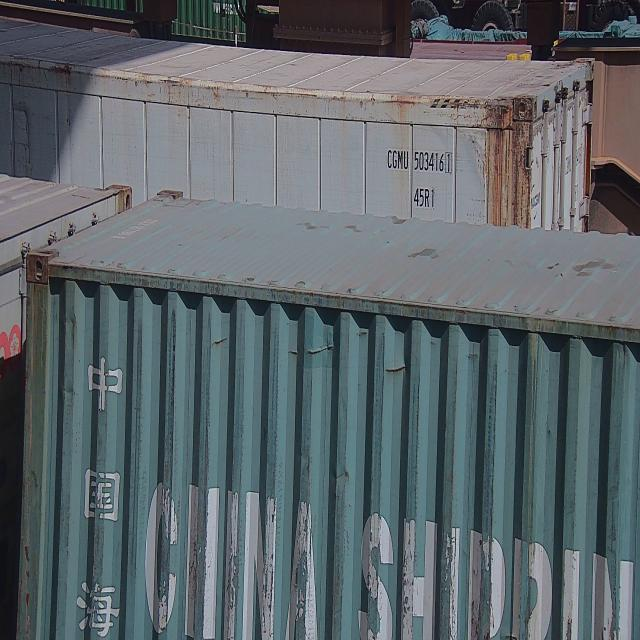dent: (284, 327, 342, 373), (209, 327, 237, 371), (388, 352, 414, 387)
rust: (479, 86, 540, 220), (14, 231, 70, 330)
